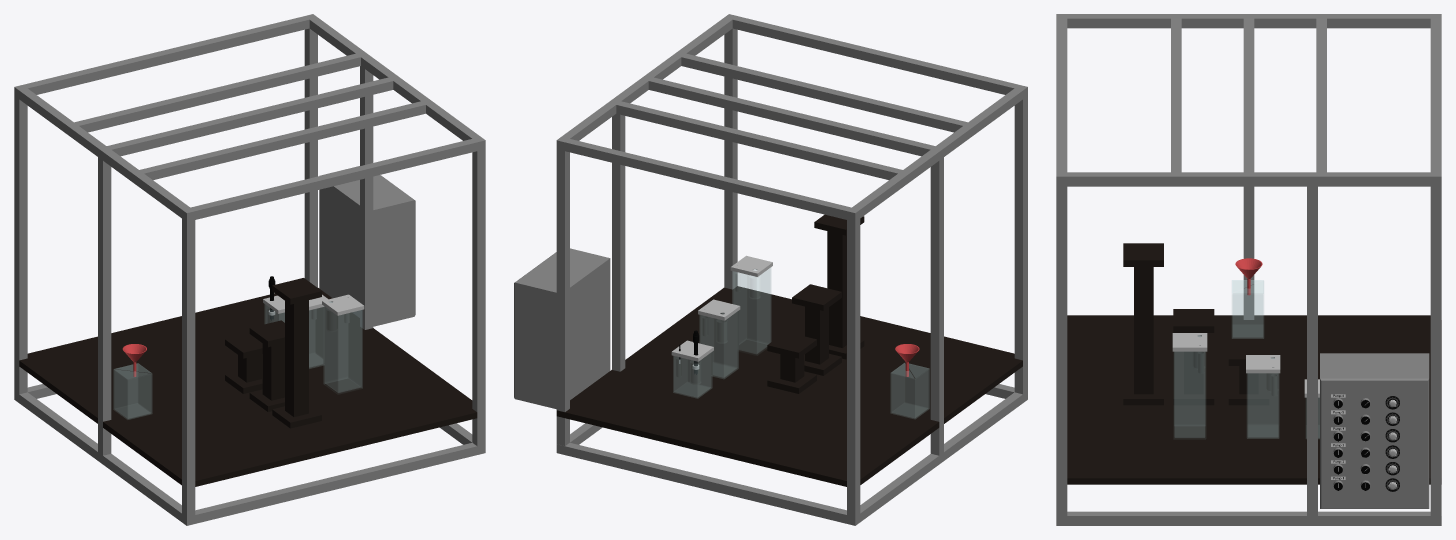
Rendered from juiceMixer.fbx.
3 views of the same model, side by side, from view 1: azimuth 30°, elevation 25°; view 2: azimuth 150°, elevation 25°; view 3: azimuth 270°, elevation 25° (orthographic). The views are drawn at different scales.
Parts seen in each view (by area): view 1: base_table, Cube, pillars.002, pillars.003, pillars.001, pillars.008, pillars.007, pillars.012, pillars.010, pillars.013, pillars.014, pillars.015 (+16 smaller); view 2: base_table, Cube, pillars.003, pillars.002, pillars.016, pillars.010, pillars.005, pillars.012, pillars.013, pillars.008, pillars.014, pillars.015 (+16 smaller); view 3: base_table, Cube, pillars.009, pillars.006, pillars.011, pillars.001, pillars.016, pillars, Base.002, Middle.002, Base.003, pillars.008 (+16 smaller).
Part boxes in pixels (x1,y1,x2,y2): base_table: (19,288,477,486); Cube: (319,166,415,326); pillars.002: (182,207,195,525); pillars.003: (14,85,27,402); pillars.001: (472,149,485,446); pillars.008: (190,139,477,219); pillars.007: (195,442,477,523); pillars.012: (98,157,111,455); pillars.010: (23,16,309,94); pillars.013: (107,77,393,156); pillars.014: (139,101,425,180); pillars.015: (74,53,360,132); base_table: (556,286,1022,486); Cube: (514,248,610,409); pillars.003: (847,207,860,525); pillars.002: (1014,85,1027,402); pillars.016: (556,149,569,445); pillars.010: (565,139,851,219); pillars.005: (565,443,846,523); pillars.012: (930,157,943,455); pillars.013: (648,77,935,156); pillars.008: (732,16,1018,94); pillars.014: (681,53,967,132); pillars.015: (616,101,902,179); base_table: (1067,315,1441,484); Cube: (1320,353,1429,508); pillars.009: (1056,172,1441,186); pillars.006: (1056,511,1441,525); pillars.011: (1067,14,1430,28); pillars.001: (1056,186,1067,515); pillars.016: (1430,186,1441,515); pillars: (1307,186,1317,515); Base.002: (1174,336,1205,437); Middle.002: (1134,267,1153,394); Base.003: (1247,357,1278,438); pillars.008: (1056,18,1067,172).
Bounding box in the file's own units: 249 × 212 × 212.
13 materials, 1 textured.
